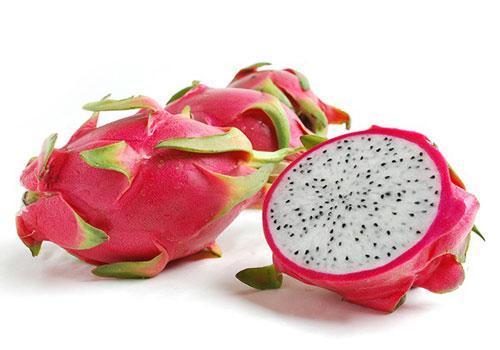dragon-fruit: (260, 123, 481, 314), (14, 113, 250, 265), (163, 86, 307, 210), (224, 67, 320, 133)
